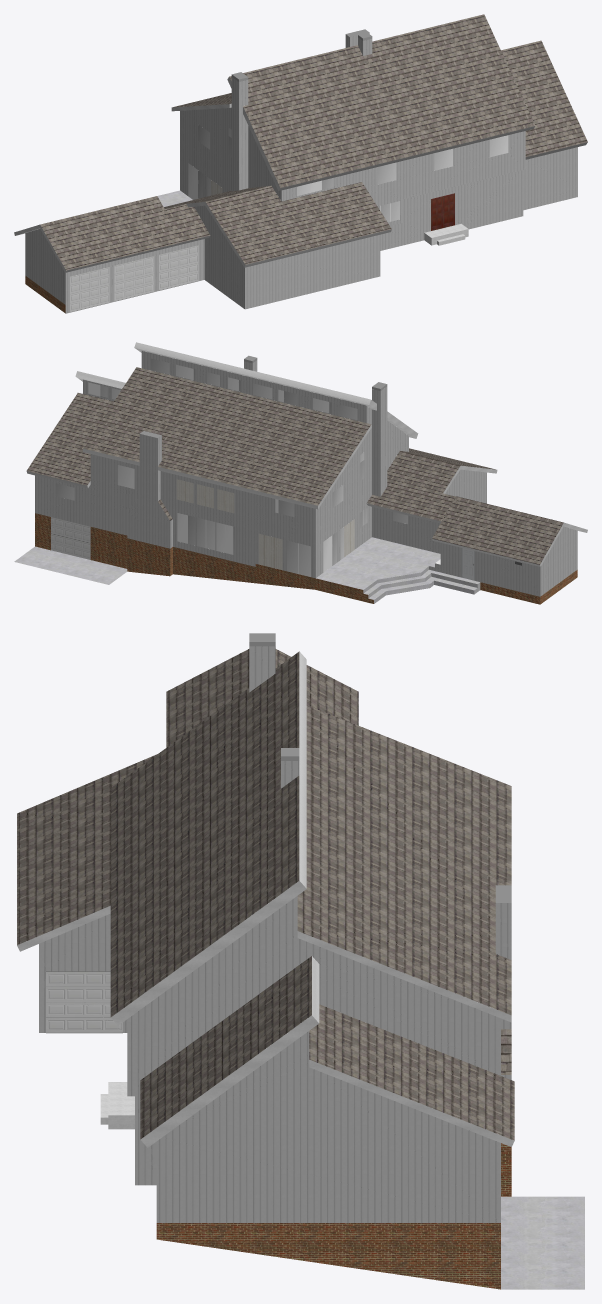
Rendered from harrington_house.glb.
3 renders of one model, top to bottom at view 1: azimuth 30°, elevation 25°; view 2: azimuth 150°, elevation 25°; view 3: azimuth 270°, elevation 25°, orthographic. The views are drawn at different scales.
Parts seen in each view (by area): view 1: Material2 (×7); view 2: Material2 (×9); view 3: Material2 (×7).
Part boxes in pixels (x1=…): Material2 (×7): x1=14, y1=14, x2=587, y2=313; Material2 (×9): x1=14, y1=342, x2=587, y2=604; Material2 (×7): x1=17, y1=646, x2=584, y2=1289.
Bounding box in the file's own units: 1260 × 480 × 654.
15 materials, 12 textured.
